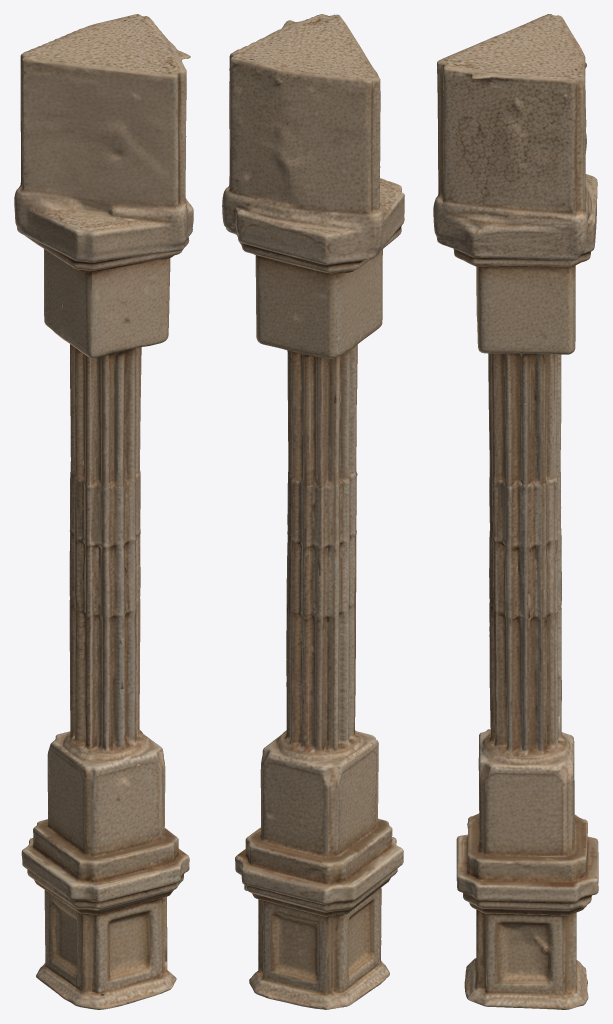
File: reloj.glb
3 renders of one model, left to right at view 1: azimuth 30°, elevation 25°; view 2: azimuth 150°, elevation 25°; view 3: azimuth 270°, elevation 25°, orthographic.
Visible parts, largest first — view 1: tripo_node_c28b8ef3-96a5-4217-8817-8e21a4432e4a; view 2: tripo_node_c28b8ef3-96a5-4217-8817-8e21a4432e4a; view 3: tripo_node_c28b8ef3-96a5-4217-8817-8e21a4432e4a.
Boxes of the visible parts, left/top/right/bottom form: tripo_node_c28b8ef3-96a5-4217-8817-8e21a4432e4a: left=14, top=14, right=193, bottom=1009; tripo_node_c28b8ef3-96a5-4217-8817-8e21a4432e4a: left=222, top=14, right=404, bottom=1009; tripo_node_c28b8ef3-96a5-4217-8817-8e21a4432e4a: left=433, top=14, right=598, bottom=1009.
Bounding box in the file's own units: 0.1657 × 1 × 0.1593.
1 material, 1 textured.
